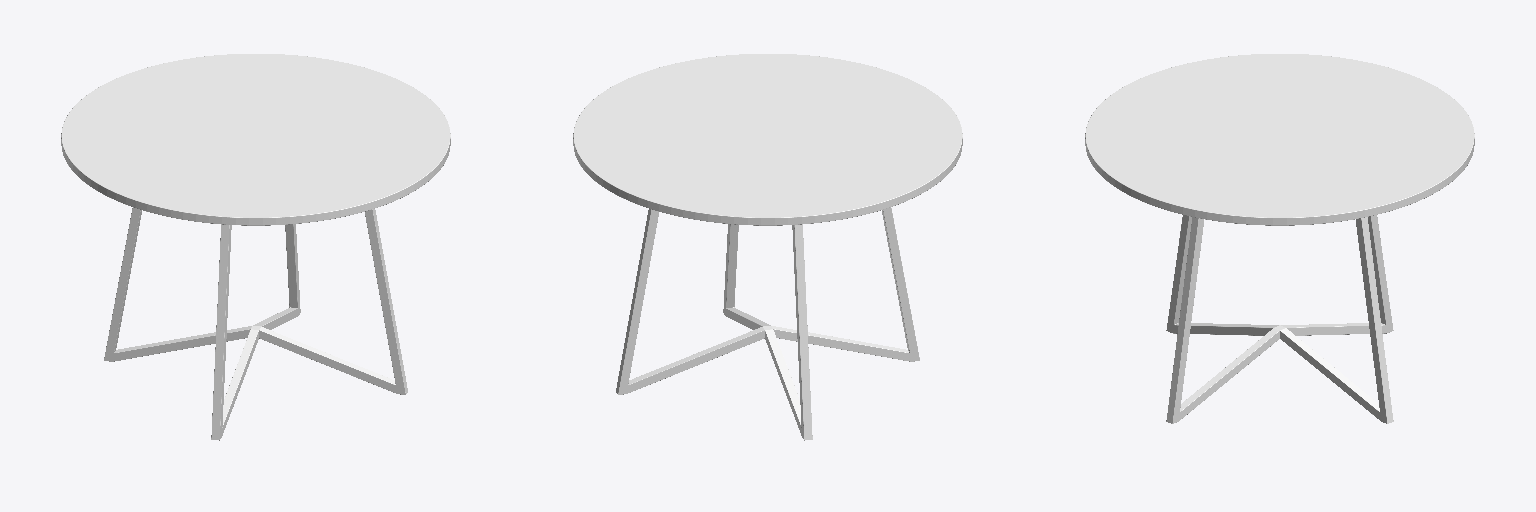
3 views of the same model, side by side, from view 1: azimuth 30°, elevation 25°; view 2: azimuth 150°, elevation 25°; view 3: azimuth 270°, elevation 25° (orthographic).
Parts seen in each view (by area): view 1: TABLE_TOP_001, noge_001, noge_003; view 2: TABLE_TOP_001, noge_003, noge_001; view 3: TABLE_TOP_001, noge_003, noge_001.
Part boxes in pixels (left/top/right/bottom): TABLE_TOP_001: left=61, top=54, right=450, bottom=225; noge_001: left=104, top=207, right=407, bottom=394; noge_003: left=211, top=224, right=300, bottom=440; TABLE_TOP_001: left=573, top=54, right=962, bottom=225; noge_003: left=616, top=207, right=919, bottom=394; noge_001: left=723, top=224, right=812, bottom=440; TABLE_TOP_001: left=1085, top=54, right=1474, bottom=225; noge_003: left=1166, top=215, right=1393, bottom=423; noge_001: left=1166, top=215, right=1393, bottom=423.
Size of the model in its own units: 43.97 by 30 by 44.